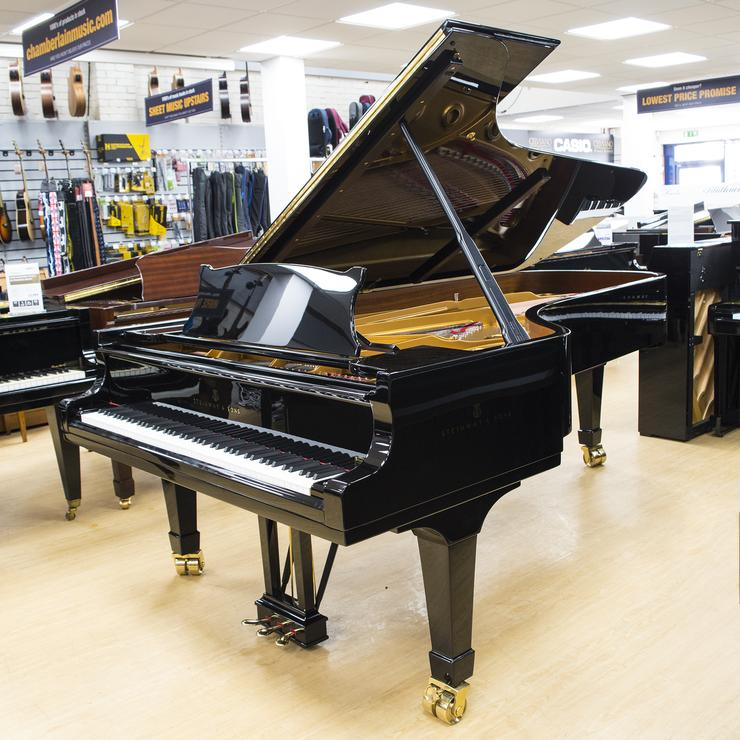GrandPiano: (56, 119, 619, 557)
